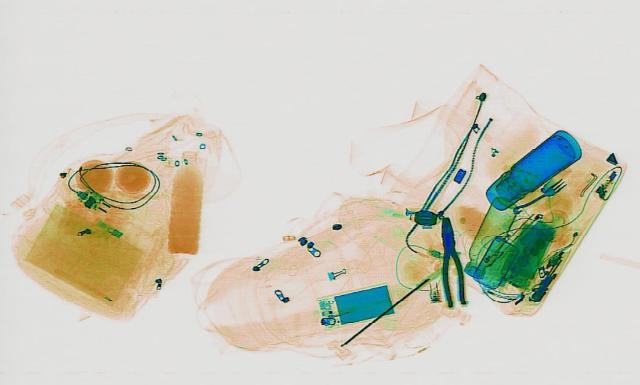Pliers: (434, 215, 468, 305)
